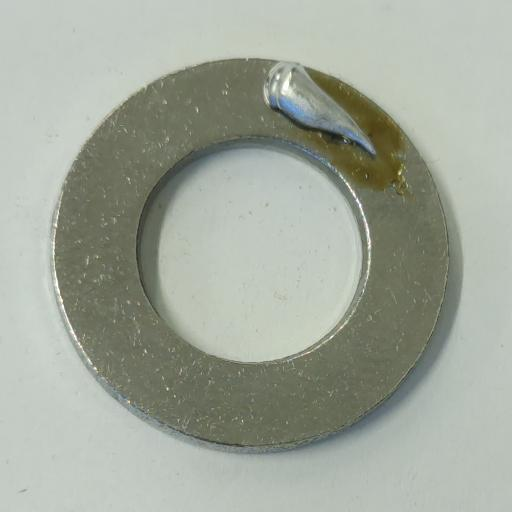excess_material: (263, 61, 377, 157)
